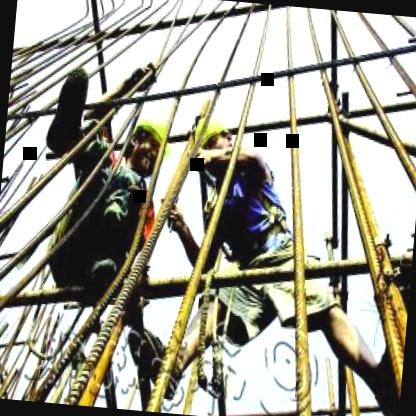helmet: (117, 108, 176, 176), (188, 112, 237, 180)
